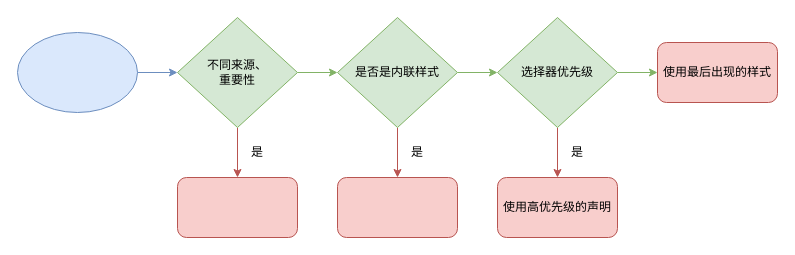
Some shapes in this 795 by 255 pixel diagram are drawn without their labels. The shapes that lost their labels are listed below. From the top down, each one's centre as x and y in pixels, then its label:
[77,72]: 冲突声明
[237,207]: 使用高优先级的来源
[397,207]: 使用内联样式
